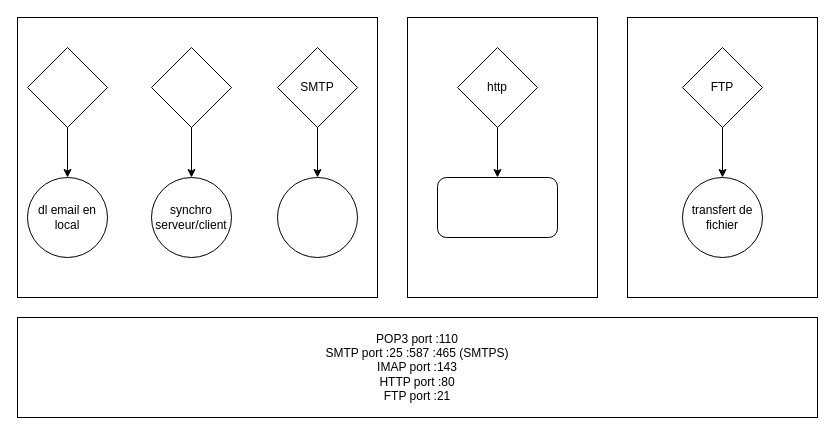
The diagram is 835 pixels wide and 435 high, and some of its shapes have lost their labels. Each missing label, with the centre of its shape:
"envoyer email" goes at point 317,217.
"IMAP" goes at point 191,87.
"POP3" goes at point 67,87.
"web" goes at point 497,207.
